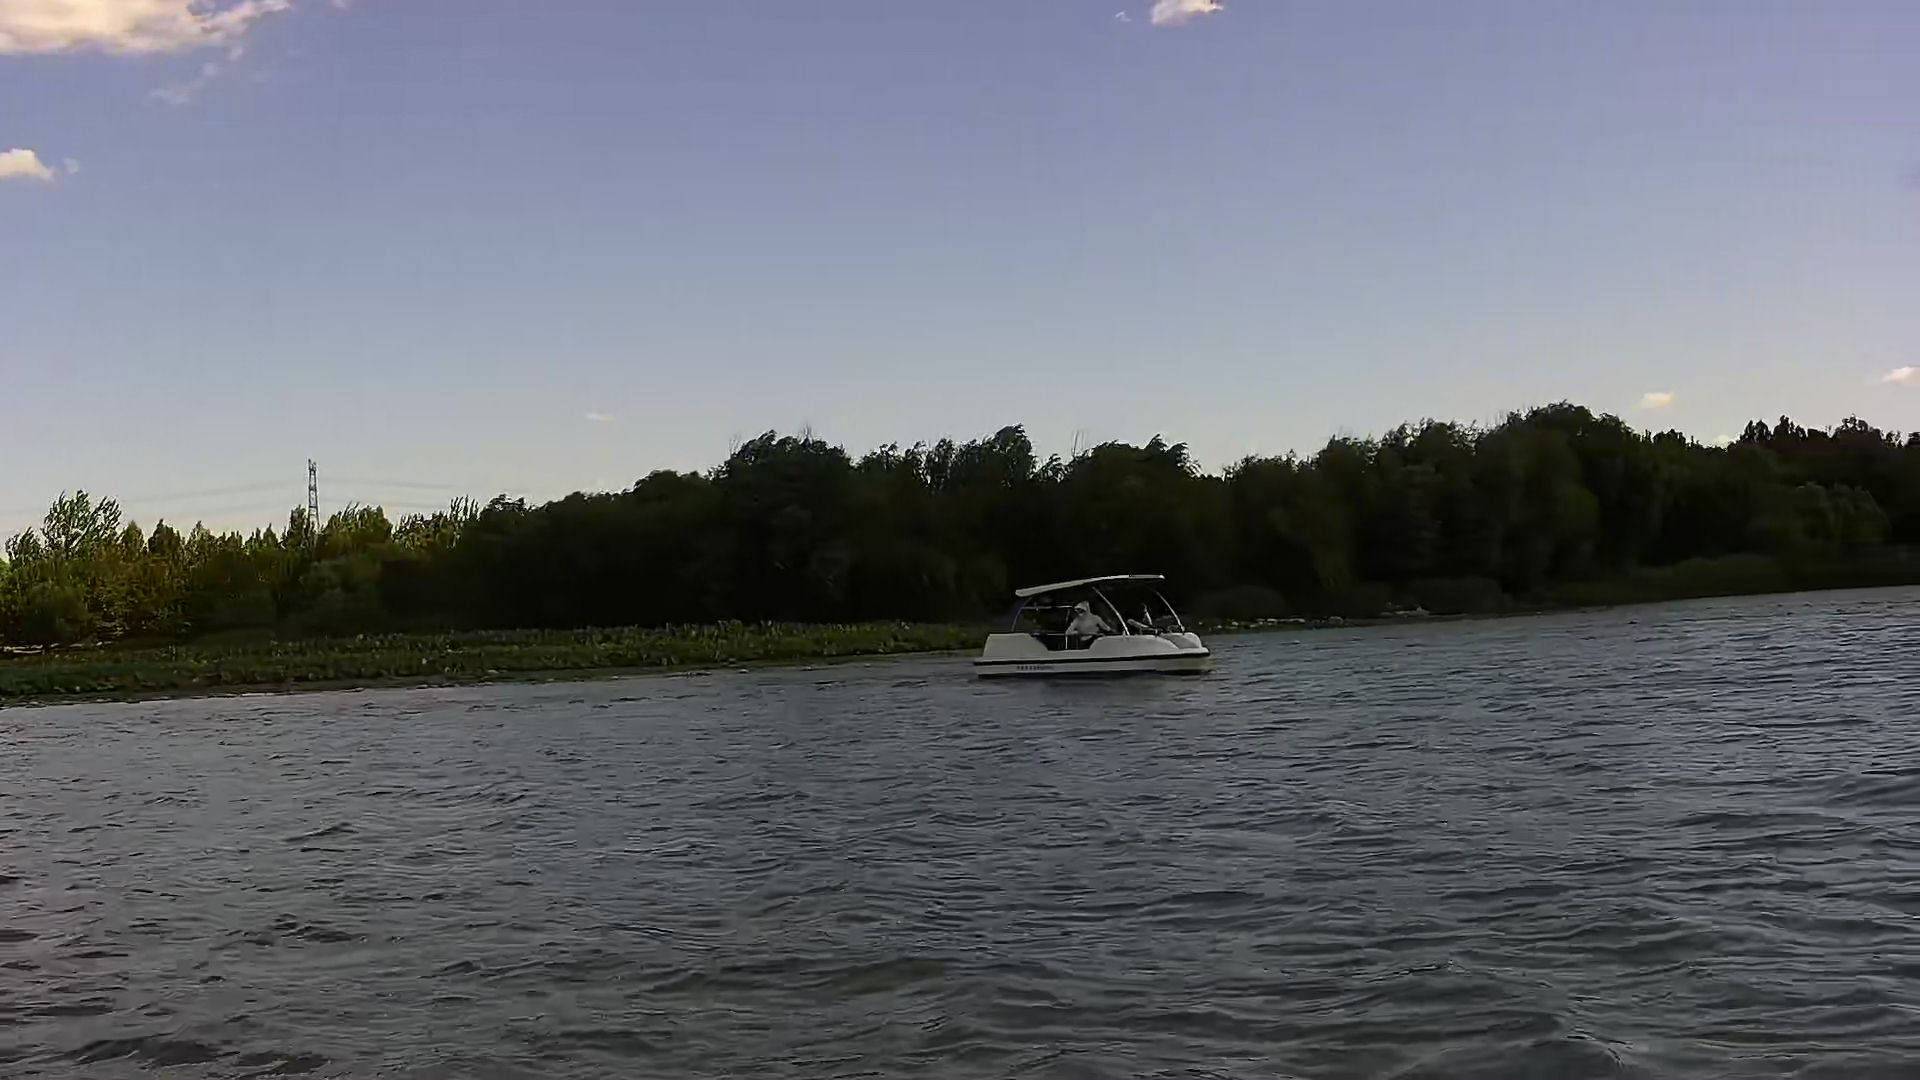boat: (971, 572, 1211, 680)
person: (1064, 604, 1114, 645)
